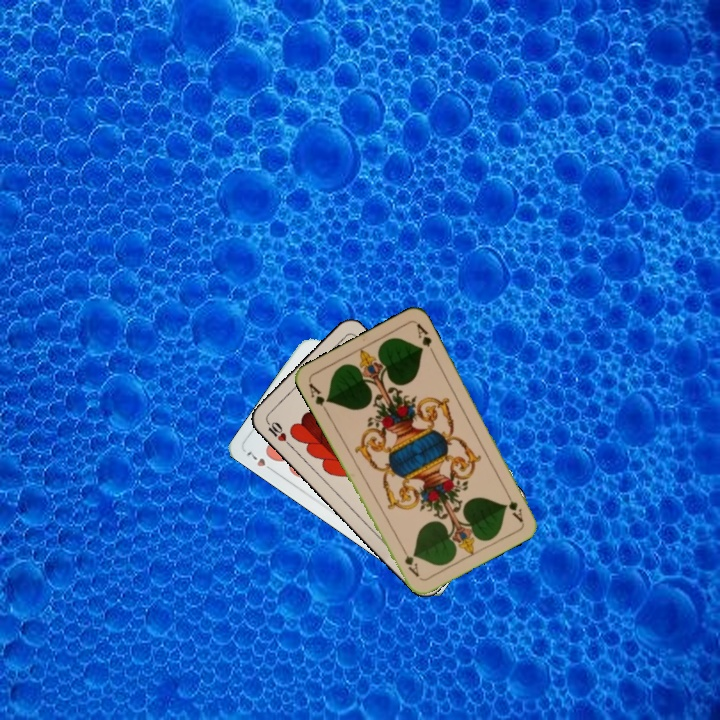GA: (305, 379, 332, 416), (501, 486, 526, 525)
H10: (262, 416, 294, 449)
H7: (242, 447, 277, 475)
